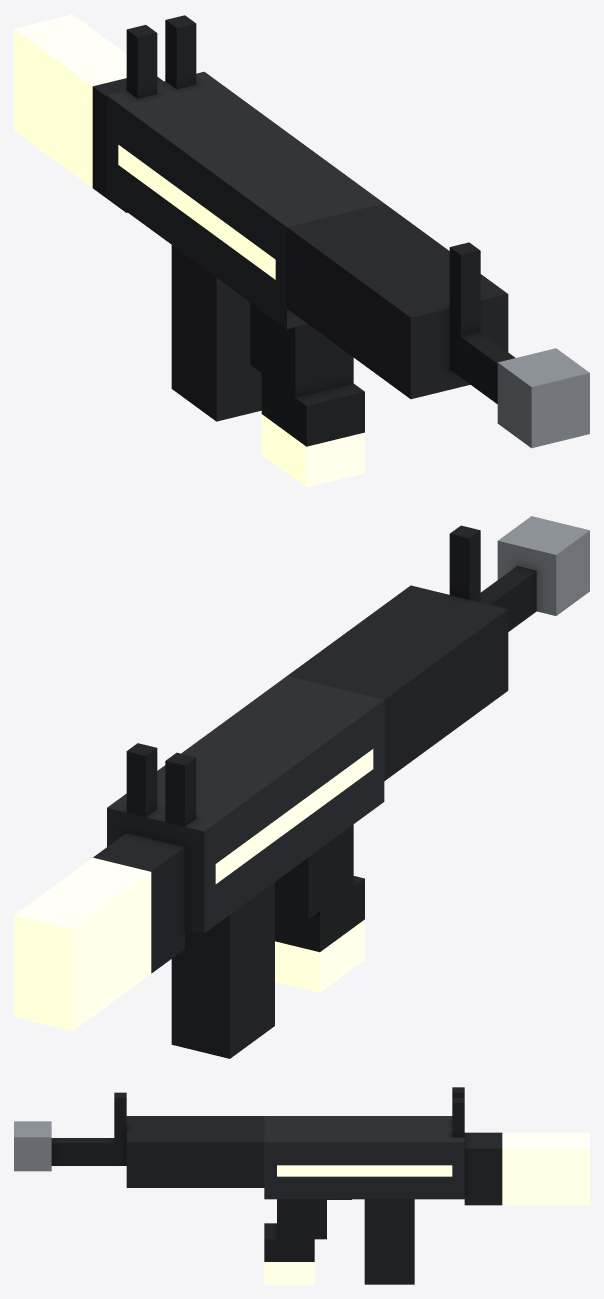
Rendered from trailblazer_legendary.glb.
The picture shows the model from 3 angles, top to bottom: view 1: azimuth 30°, elevation 25°; view 2: azimuth 150°, elevation 25°; view 3: azimuth 270°, elevation 25°; orthographic projection. The views are drawn at different scales.
Visible parts, largest first — view 1: trailblazer_legendary_body; view 2: trailblazer_legendary_body; view 3: trailblazer_legendary_body.
Boxes of the visible parts, x1,y1,x2,y2 form: trailblazer_legendary_body: [14, 14, 589, 487]; trailblazer_legendary_body: [14, 516, 589, 1058]; trailblazer_legendary_body: [14, 1087, 589, 1284].
Size of the model in its own units: 0.1953 by 0.625 by 1.8.
1 material, 1 textured.
